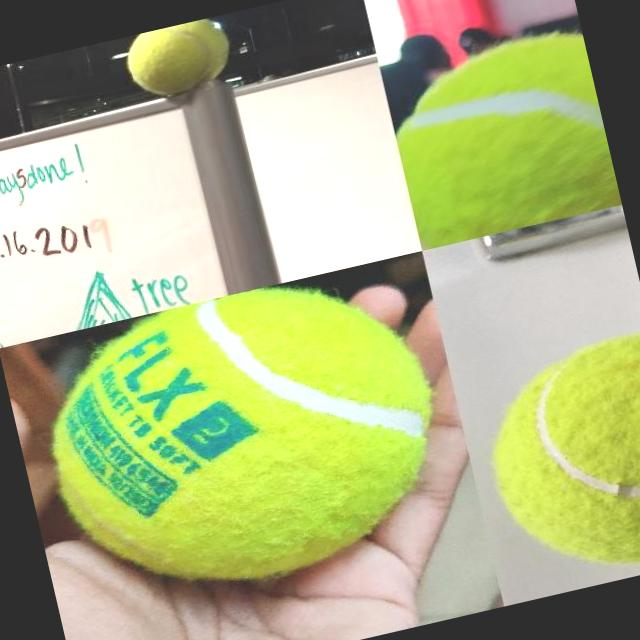tennis-ball: (28, 256, 460, 615), (380, 25, 620, 249), (465, 326, 640, 597), (120, 13, 240, 104)
